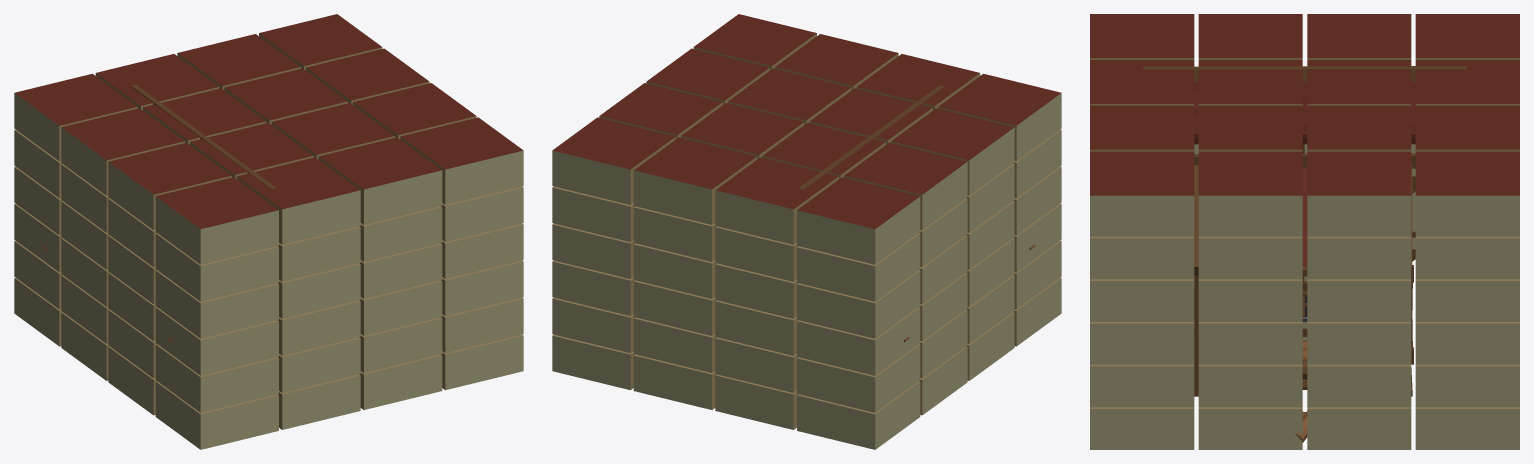
File: Sawmill_destructible.gltf
The picture shows the model from 3 angles, left to right: view 1: azimuth 30°, elevation 25°; view 2: azimuth 150°, elevation 25°; view 3: azimuth 270°, elevation 25°; orthographic projection. The views are drawn at different scales.
Parts seen in each view (by area): view 1: block_f5_r3_c0, block_f5_r3_c2, block_f5_r3_c1, block_f5_r3_c3, block_f5_r0_c0, block_f5_r1_c0, block_f5_r2_c0, block_f2_r3_c0, block_f1_r3_c0, block_f3_r3_c0, block_f0_r3_c0, block_f4_r3_c0 (+39 smaller); view 2: block_f5_r0_c0, block_f5_r0_c2, block_f5_r0_c1, block_f5_r0_c3, block_f5_r2_c0, block_f5_r3_c0, block_f5_r1_c0, block_f2_r0_c0, block_f1_r0_c0, block_f3_r0_c0, block_f0_r0_c0, block_f4_r0_c0 (+39 smaller); view 3: block_f5_r0_c3, block_f5_r1_c3, block_f5_r2_c3, block_f5_r3_c3, block_f5_r1_c1, block_f5_r2_c1, block_f5_r2_c2, block_f5_r1_c2, block_f5_r0_c2, block_f5_r3_c2, block_f5_r0_c1, block_f5_r3_c1 (+24 smaller).
Part boxes in pixels (<box>): block_f5_r3_c0: <box>155,177,278,264</box>; block_f5_r3_c2: <box>318,137,442,224</box>; block_f5_r3_c1: <box>237,157,360,244</box>; block_f5_r3_c3: <box>400,117,523,204</box>; block_f5_r0_c0: <box>14,73,137,161</box>; block_f5_r1_c0: <box>61,108,184,195</box>; block_f5_r2_c0: <box>108,142,231,230</box>; block_f2_r3_c0: <box>155,307,278,375</box>; block_f1_r3_c0: <box>155,344,278,412</box>; block_f3_r3_c0: <box>155,270,278,338</box>; block_f0_r3_c0: <box>155,381,278,449</box>; block_f4_r3_c0: <box>155,233,278,301</box>; block_f5_r0_c0: <box>797,177,920,264</box>; block_f5_r0_c2: <box>633,137,757,224</box>; block_f5_r0_c1: <box>715,157,838,244</box>; block_f5_r0_c3: <box>552,117,675,204</box>; block_f5_r2_c0: <box>891,108,1014,195</box>; block_f5_r3_c0: <box>938,73,1061,161</box>; block_f5_r1_c0: <box>844,142,967,230</box>; block_f2_r0_c0: <box>797,307,920,375</box>; block_f1_r0_c0: <box>797,344,920,412</box>; block_f3_r0_c0: <box>797,270,920,338</box>; block_f0_r0_c0: <box>797,381,920,449</box>; block_f4_r0_c0: <box>797,233,920,301</box>; block_f5_r0_c3: <box>1415,151,1519,236</box>; block_f5_r1_c3: <box>1307,151,1411,236</box>; block_f5_r2_c3: <box>1198,151,1302,236</box>; block_f5_r3_c3: <box>1090,151,1194,236</box>; block_f5_r1_c1: <box>1305,60,1413,121</box>; block_f5_r2_c1: <box>1196,60,1304,121</box>; block_f5_r2_c2: <box>1196,105,1304,151</box>; block_f5_r1_c2: <box>1305,105,1413,151</box>; block_f5_r0_c2: <box>1413,105,1519,151</box>; block_f5_r3_c2: <box>1090,105,1196,151</box>; block_f5_r0_c1: <box>1413,60,1519,121</box>; block_f5_r3_c1: <box>1090,60,1196,121</box>.
Bounding box in the file's own units: 11 × 7.16 × 10.89.
